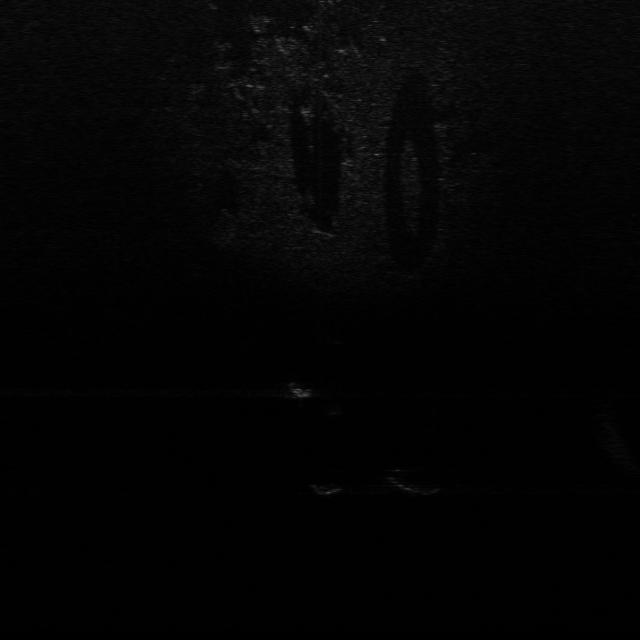cube: (306, 480, 346, 498)
square cage: (280, 380, 316, 400)
tyre: (383, 466, 443, 498)
